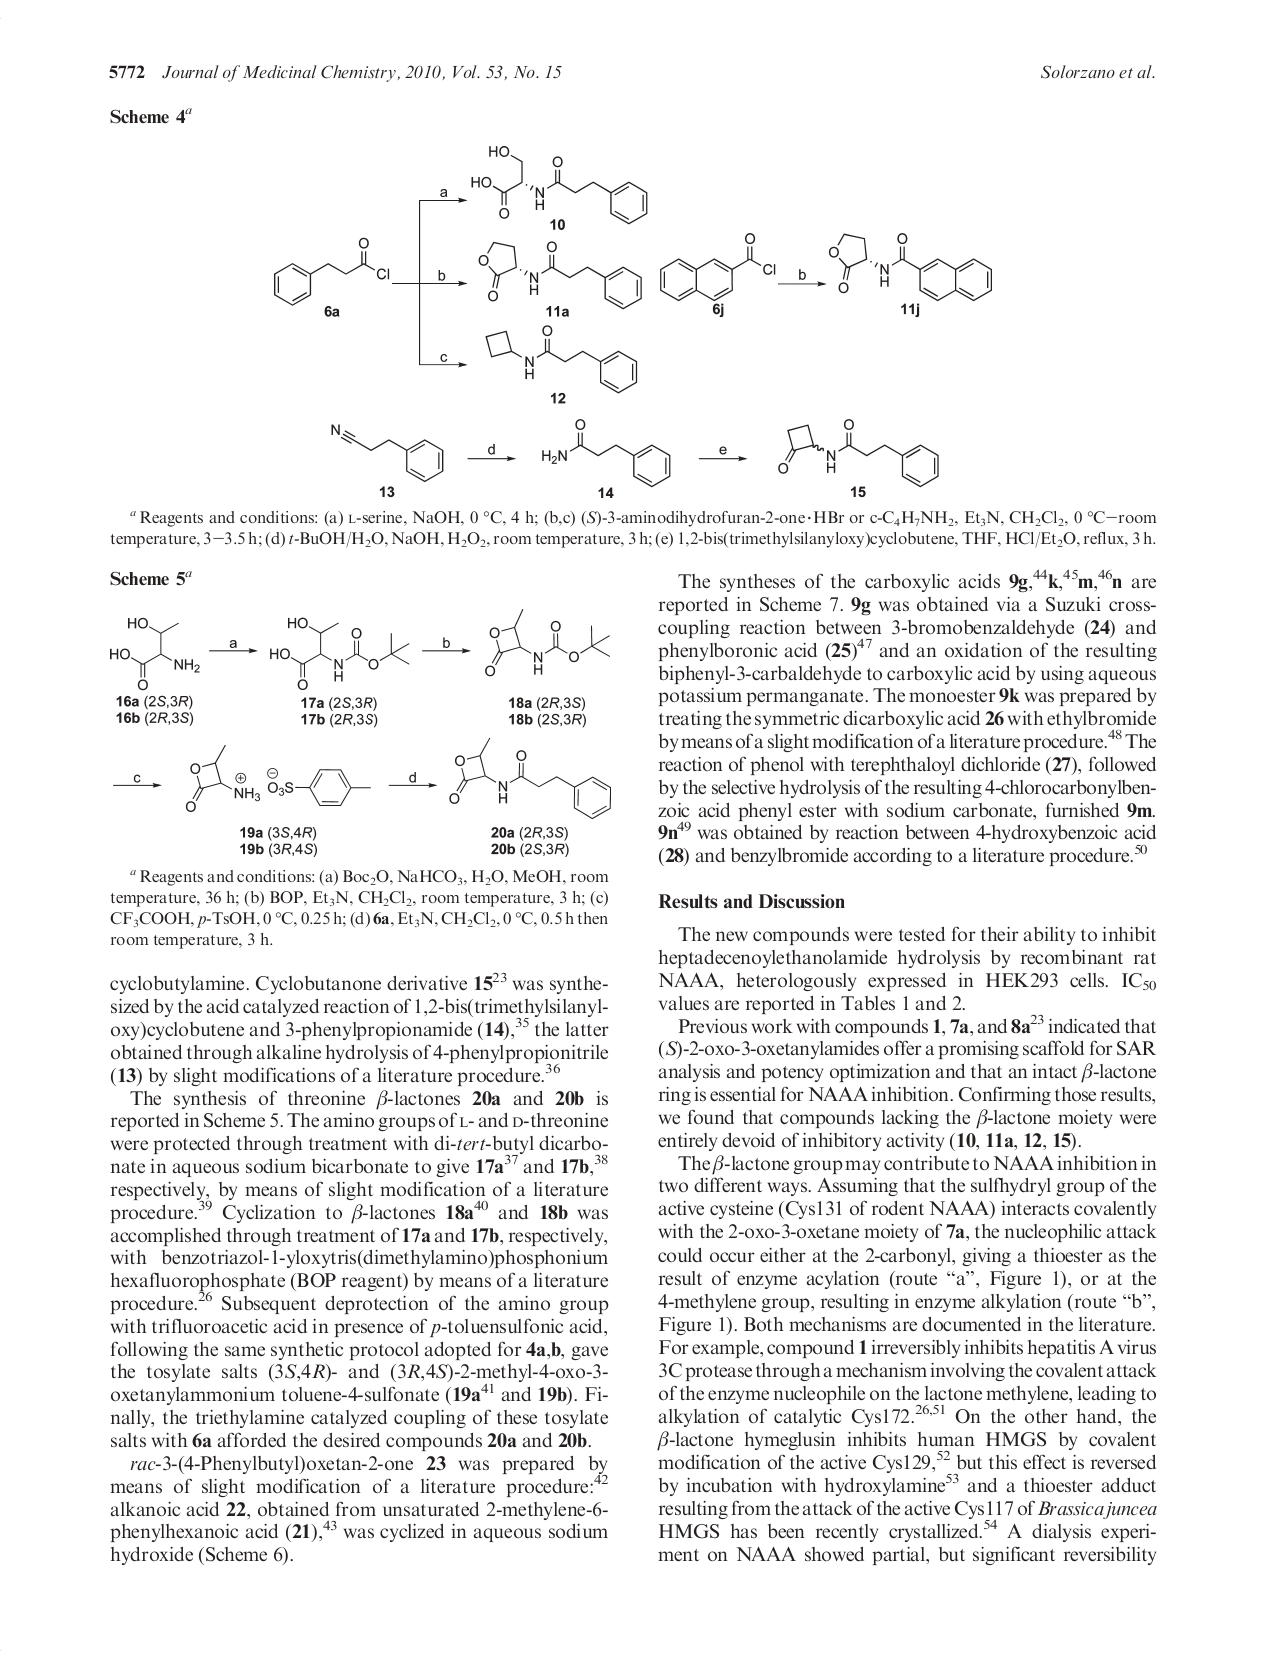exist_molecular: (469, 144, 649, 225), (447, 735, 612, 821), (477, 241, 644, 311), (828, 231, 993, 302), (778, 418, 940, 487), (484, 323, 638, 394), (269, 616, 410, 689), (481, 606, 612, 678), (539, 418, 672, 487), (658, 231, 777, 302), (273, 238, 392, 307), (328, 420, 445, 481), (106, 616, 199, 692), (184, 743, 261, 813), (267, 767, 372, 809)
